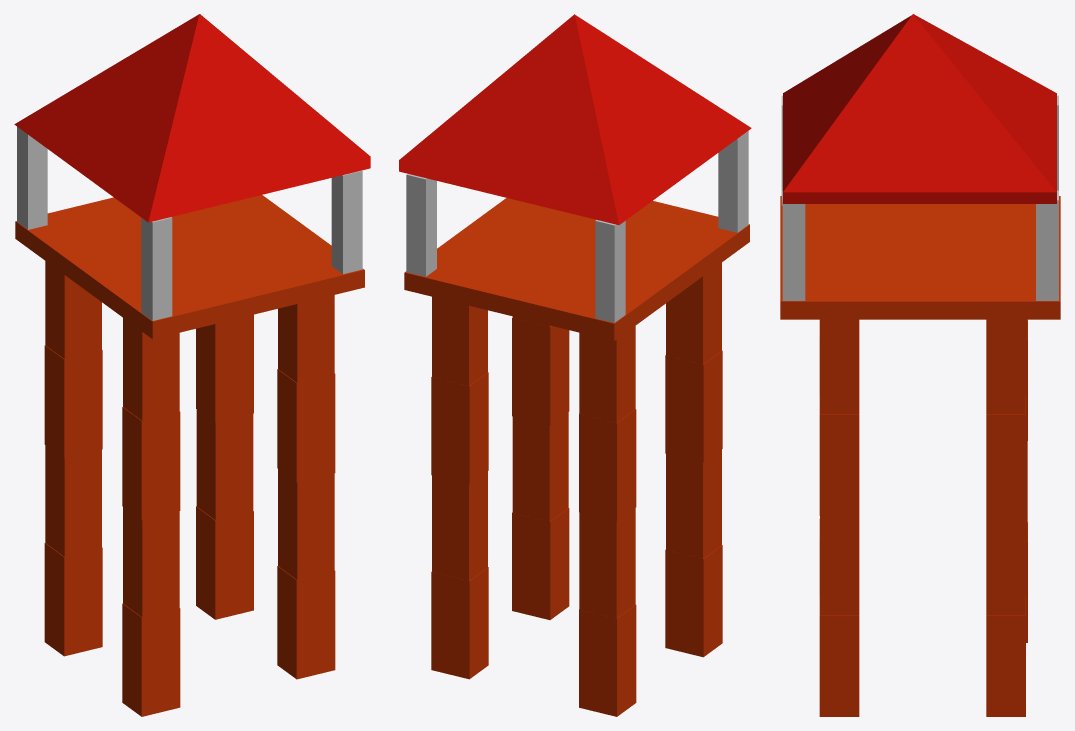
The model's file is SpotterTower.obj.
The picture shows the model from 3 angles, left to right: view 1: azimuth 30°, elevation 25°; view 2: azimuth 150°, elevation 25°; view 3: azimuth 270°, elevation 25°; orthographic projection. The views are drawn at different scales.
Visible parts, largest first — view 1: Cube.021, Cube.002, Cube.006, Cube.009, Cube, Cube.008, Cube.012, Cube.015, Cube.013, Cube.014, Cube.016, Cube.011 (+8 smaller); view 2: Cube.021, Cube.002, Cube.009, Cube.013, Cube.006, Cube.015, Cube.004, Cube.008, Cube.012, Cube, Cube.016, Cube.011 (+8 smaller); view 3: Cube.021, Cube.002, Cube, Cube.012, Cube.004, Cube.013, Cube.014, Cube.011, Cube.003, Cube.001, Cube.017, Cube.018.
Boxes of the visible parts, <box> form: Cube.021: <box>14,14,370,222</box>; Cube.002: <box>15,195,364,339</box>; Cube.006: <box>122,407,180,520</box>; Cube.009: <box>122,603,180,716</box>; Cube: <box>277,369,335,482</box>; Cube.008: <box>44,345,102,458</box>; Cube.012: <box>277,566,335,679</box>; Cube.015: <box>44,543,102,656</box>; Cube.013: <box>196,506,253,619</box>; Cube.014: <box>196,409,253,520</box>; Cube.016: <box>45,445,101,556</box>; Cube.011: <box>278,469,334,579</box>; Cube.021: <box>399,14,751,224</box>; Cube.002: <box>404,198,749,340</box>; Cube.009: <box>665,545,722,657</box>; Cube.013: <box>431,567,488,679</box>; Cube.006: <box>665,350,722,462</box>; Cube.015: <box>579,604,636,716</box>; Cube.004: <box>431,372,488,484</box>; Cube.008: <box>579,409,636,521</box>; Cube.012: <box>512,508,569,619</box>; Cube: <box>512,318,569,425</box>; Cube.016: <box>579,508,635,618</box>; Cube.011: <box>512,412,568,521</box>; Cube.021: <box>783,14,1056,203</box>; Cube.002: <box>780,196,1060,319</box>; Cube: <box>819,395,859,515</box>; Cube.012: <box>819,596,859,716</box>; Cube.004: <box>986,395,1025,515</box>; Cube.013: <box>986,596,1025,716</box>; Cube.014: <box>986,516,1025,615</box>; Cube.011: <box>820,516,859,615</box>; Cube.003: <box>986,319,1025,414</box>; Cube.001: <box>820,319,859,414</box>; Cube.017: <box>782,191,805,300</box>; Cube.018: <box>1036,190,1058,300</box>.
Size of the model in its own units: 4.69 by 13.01 by 5.01.
